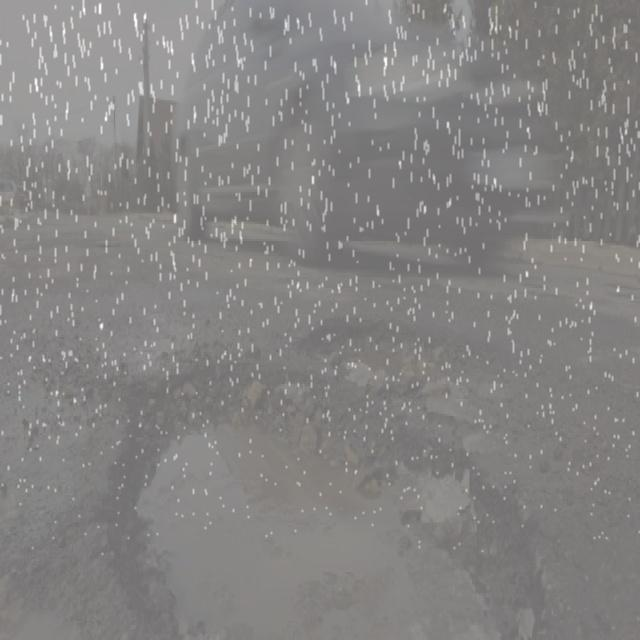Pothole: (62, 288, 620, 640)
